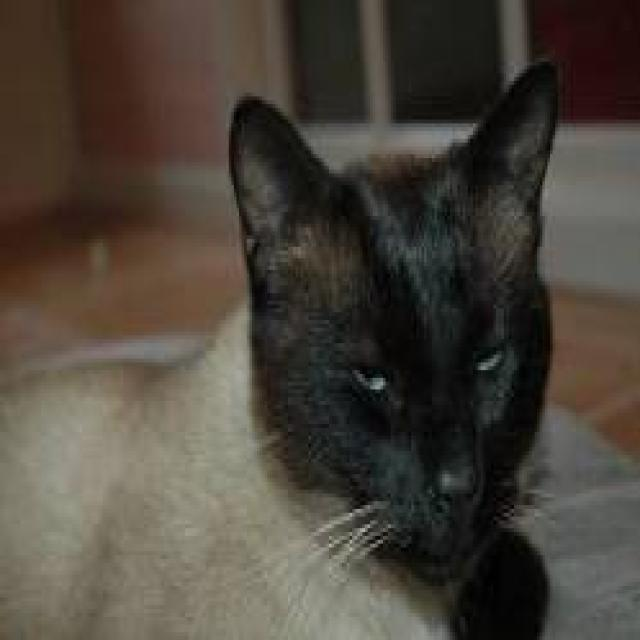cat: (0, 54, 560, 636)
